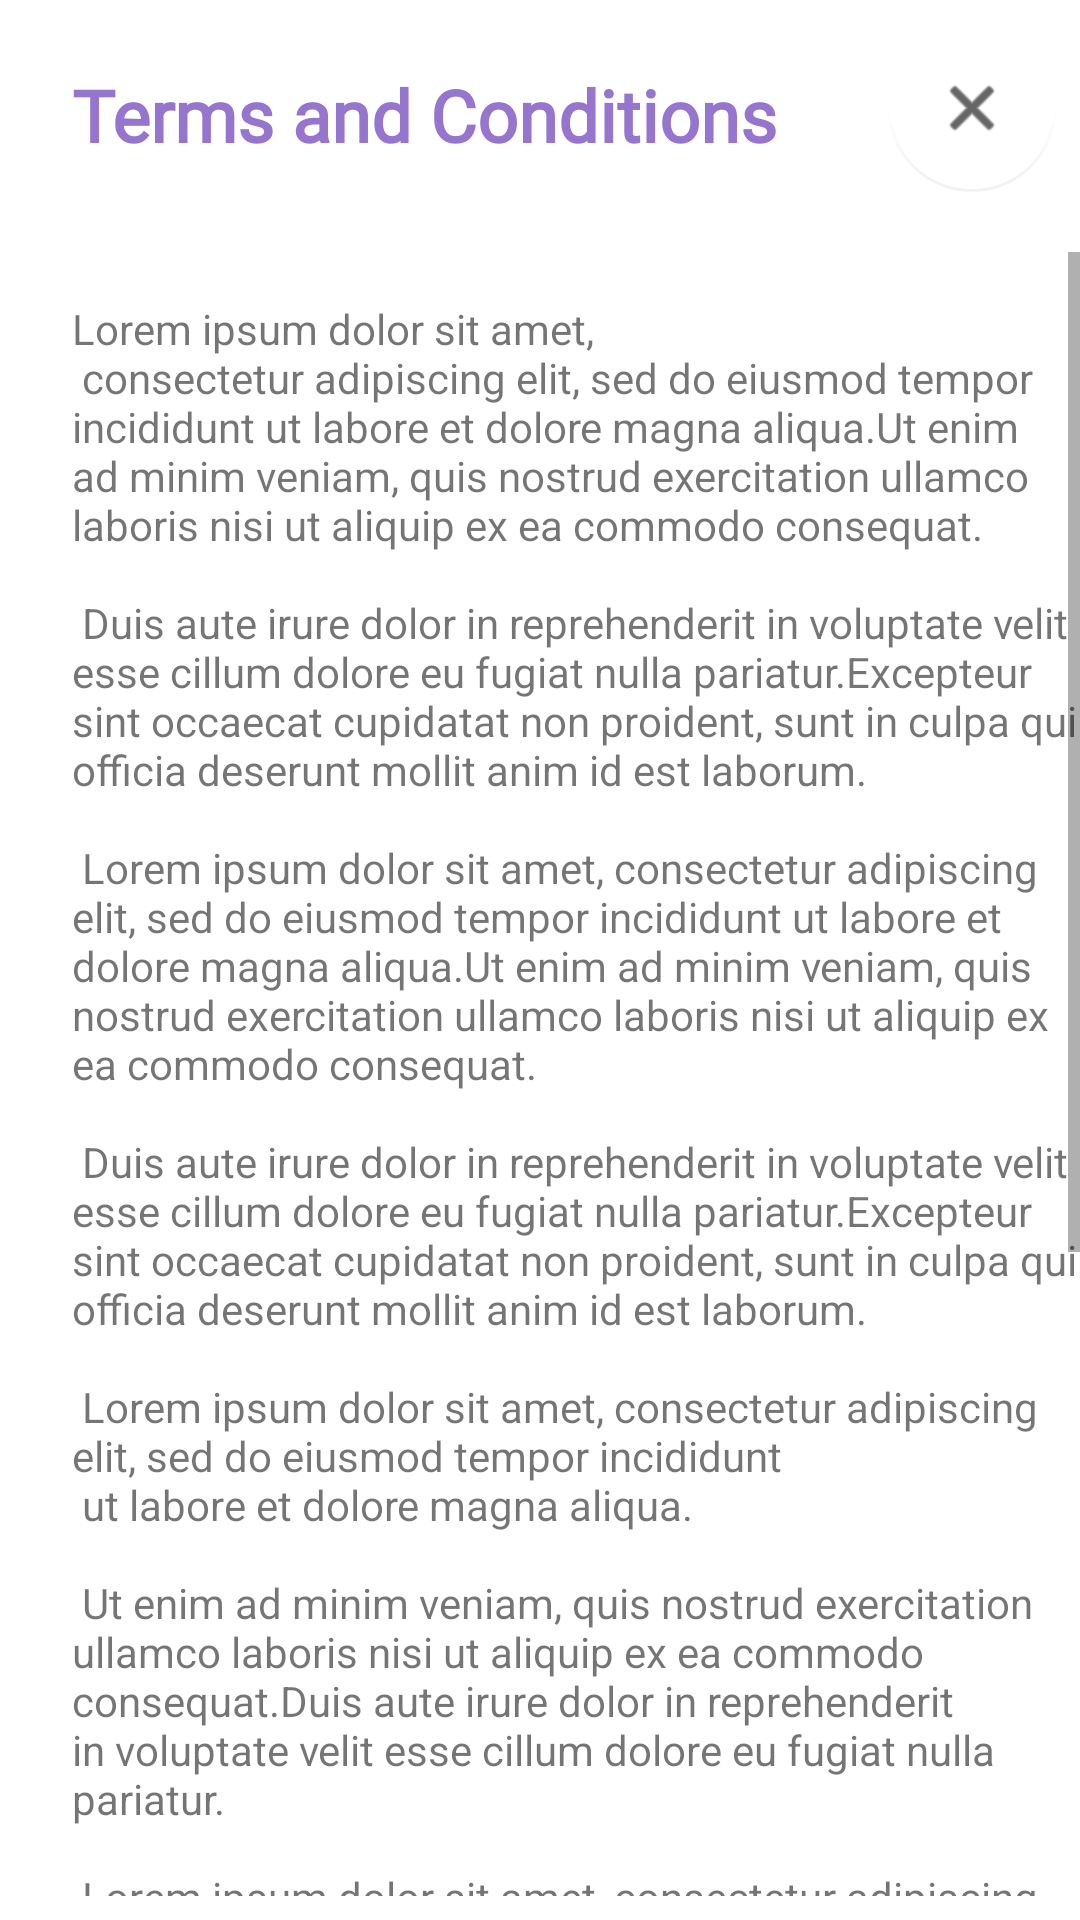

Where icons sit on this 1080w x 1920h app screen, as (x1, y1, x2, y2):
close clear cancel: (949, 85, 995, 131)
